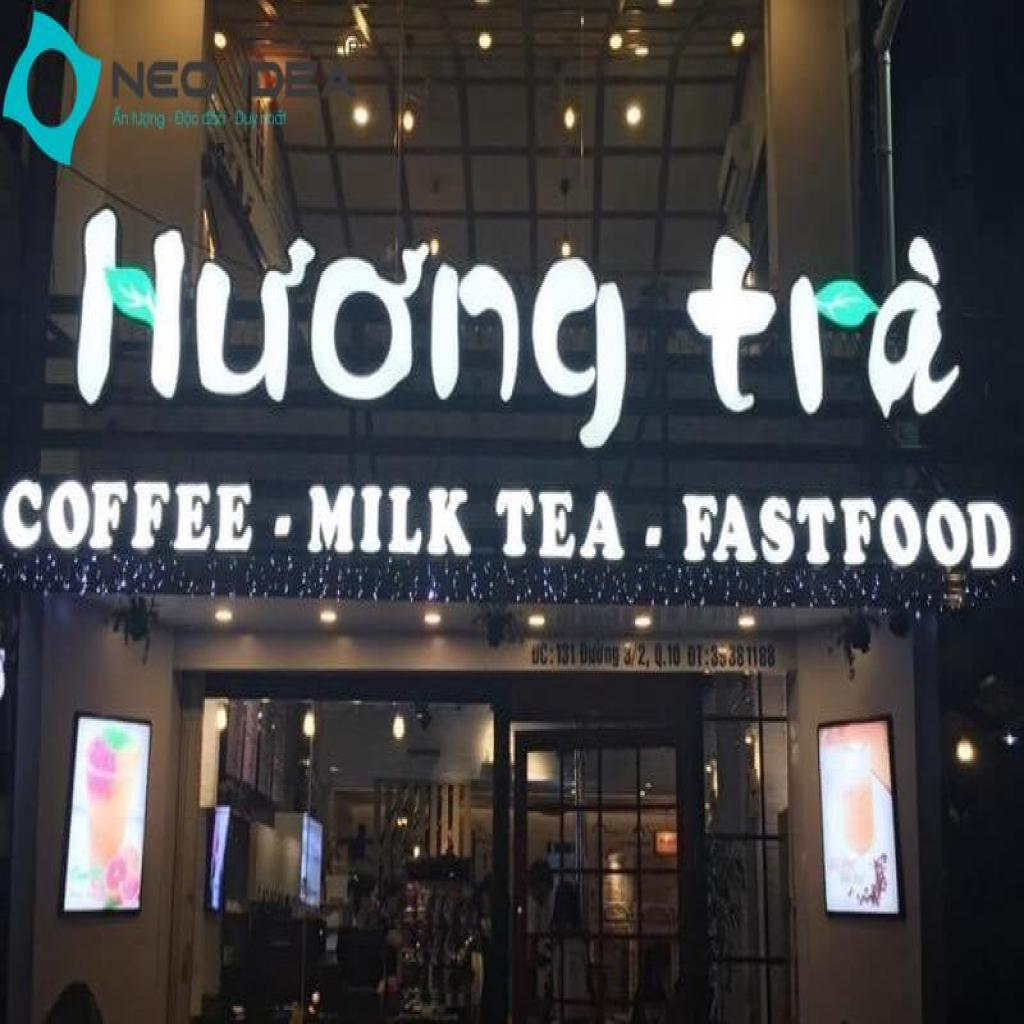text: (65, 203, 630, 454), (677, 231, 967, 422), (678, 492, 1014, 576), (3, 480, 256, 562), (302, 482, 474, 564), (492, 488, 627, 570), (235, 56, 356, 104), (109, 52, 219, 104), (578, 634, 624, 676), (652, 638, 684, 670), (130, 108, 168, 134), (259, 106, 293, 132), (687, 640, 712, 674), (173, 106, 201, 136), (624, 640, 652, 668), (528, 642, 556, 668), (201, 106, 229, 130), (233, 108, 261, 132), (556, 642, 578, 672), (108, 102, 130, 128)
